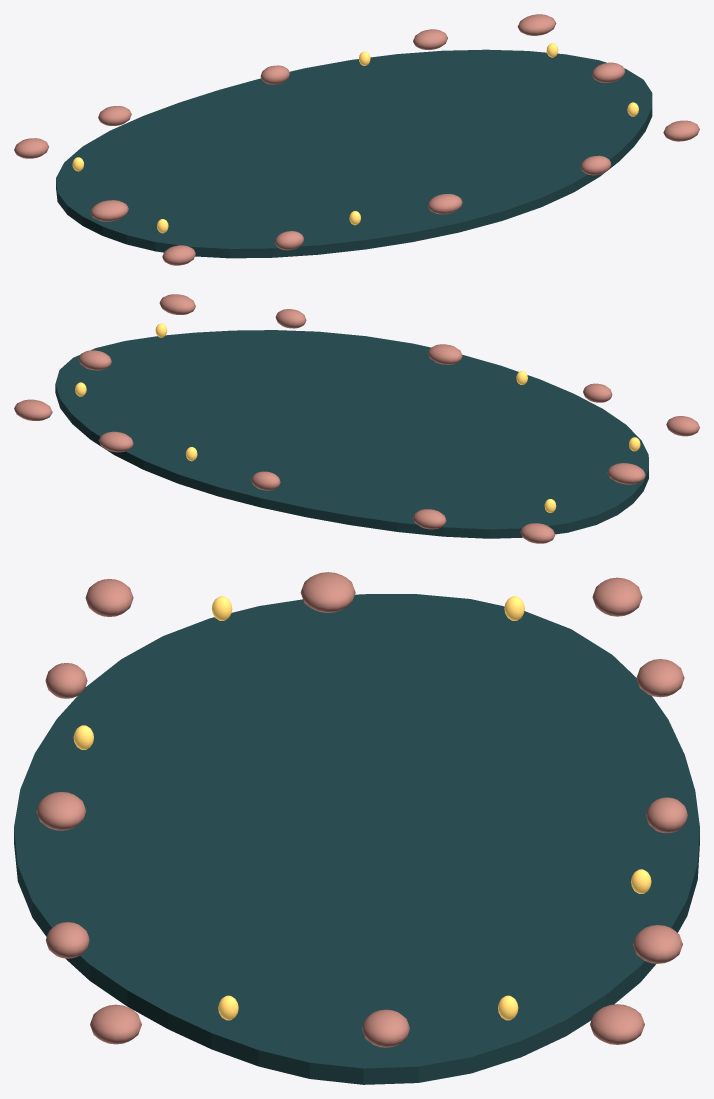
The model's file is garden.glb.
3 views of the same model, one above another, from view 1: azimuth 30°, elevation 25°; view 2: azimuth 150°, elevation 25°; view 3: azimuth 270°, elevation 25° (orthographic). The views are drawn at different scales.
Visible parts, largest first — view 1: garden; view 2: garden; view 3: garden.
Part boxes in pixels (left/top/right/bottom): garden: left=14, top=14, right=699, bottom=265; garden: left=14, top=294, right=699, bottom=543; garden: left=14, top=572, right=699, bottom=1084.
Size of the model in its own units: 17.49 by 0.8 by 10.67.
